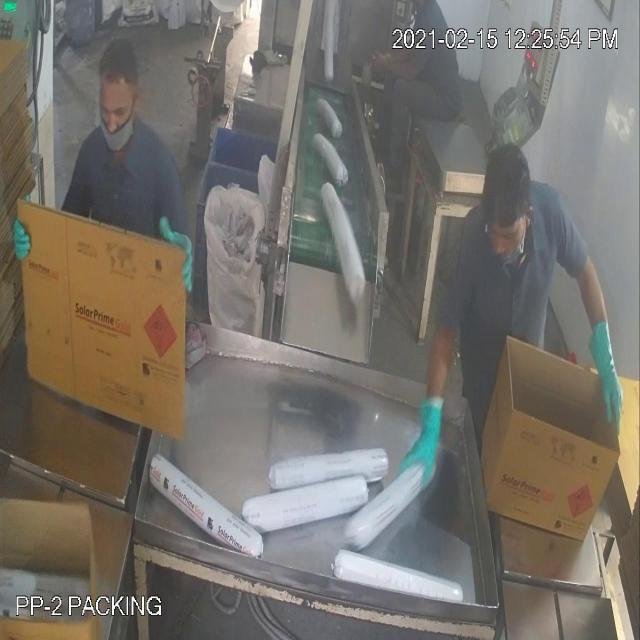Gloves: (38, 52, 608, 434)
